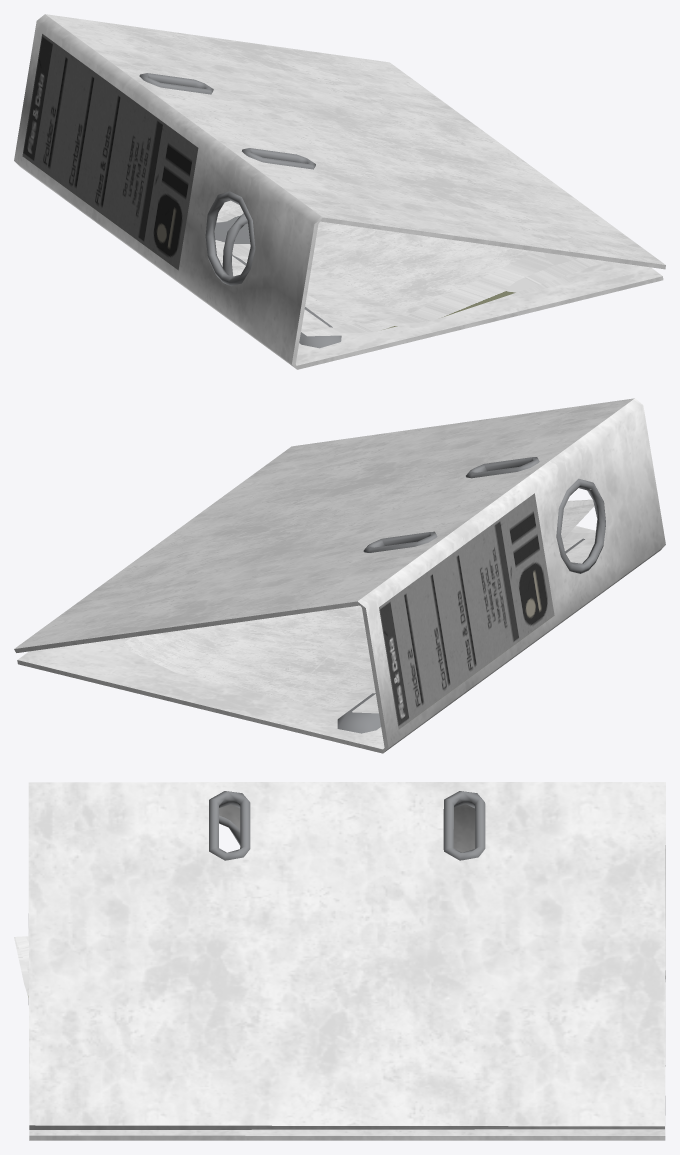
The model's file is SM_Folder5.fbx.
3 renders of one model, top to bottom at view 1: azimuth 30°, elevation 25°; view 2: azimuth 150°, elevation 25°; view 3: azimuth 270°, elevation 25°, orthographic. The views are drawn at different scales.
Visible parts, largest first — view 1: SM_Folder5_LOD0; view 2: SM_Folder5_LOD0; view 3: SM_Folder5_LOD0.
Boxes of the visible parts, x1,y1,x2,y2 form: SM_Folder5_LOD0: (14, 14, 665, 369); SM_Folder5_LOD0: (14, 398, 665, 753); SM_Folder5_LOD0: (14, 782, 665, 1140).
Bounding box in the file's own units: 37.62 × 49.21 × 13.97.
Materials: 1 (1 with a texture image).
